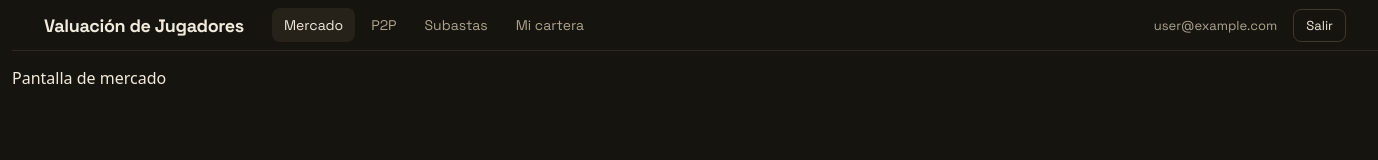
Test: RootLayout › Salir cierra la sesión y lleva al login
Click the button "Salir".
click(1320, 25)  # box [1293, 8, 1346, 42]
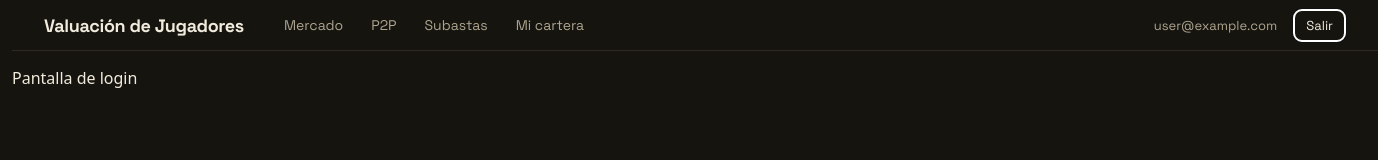
Result: the text "Pantalla de login" is shown at [12, 67, 137, 89]
